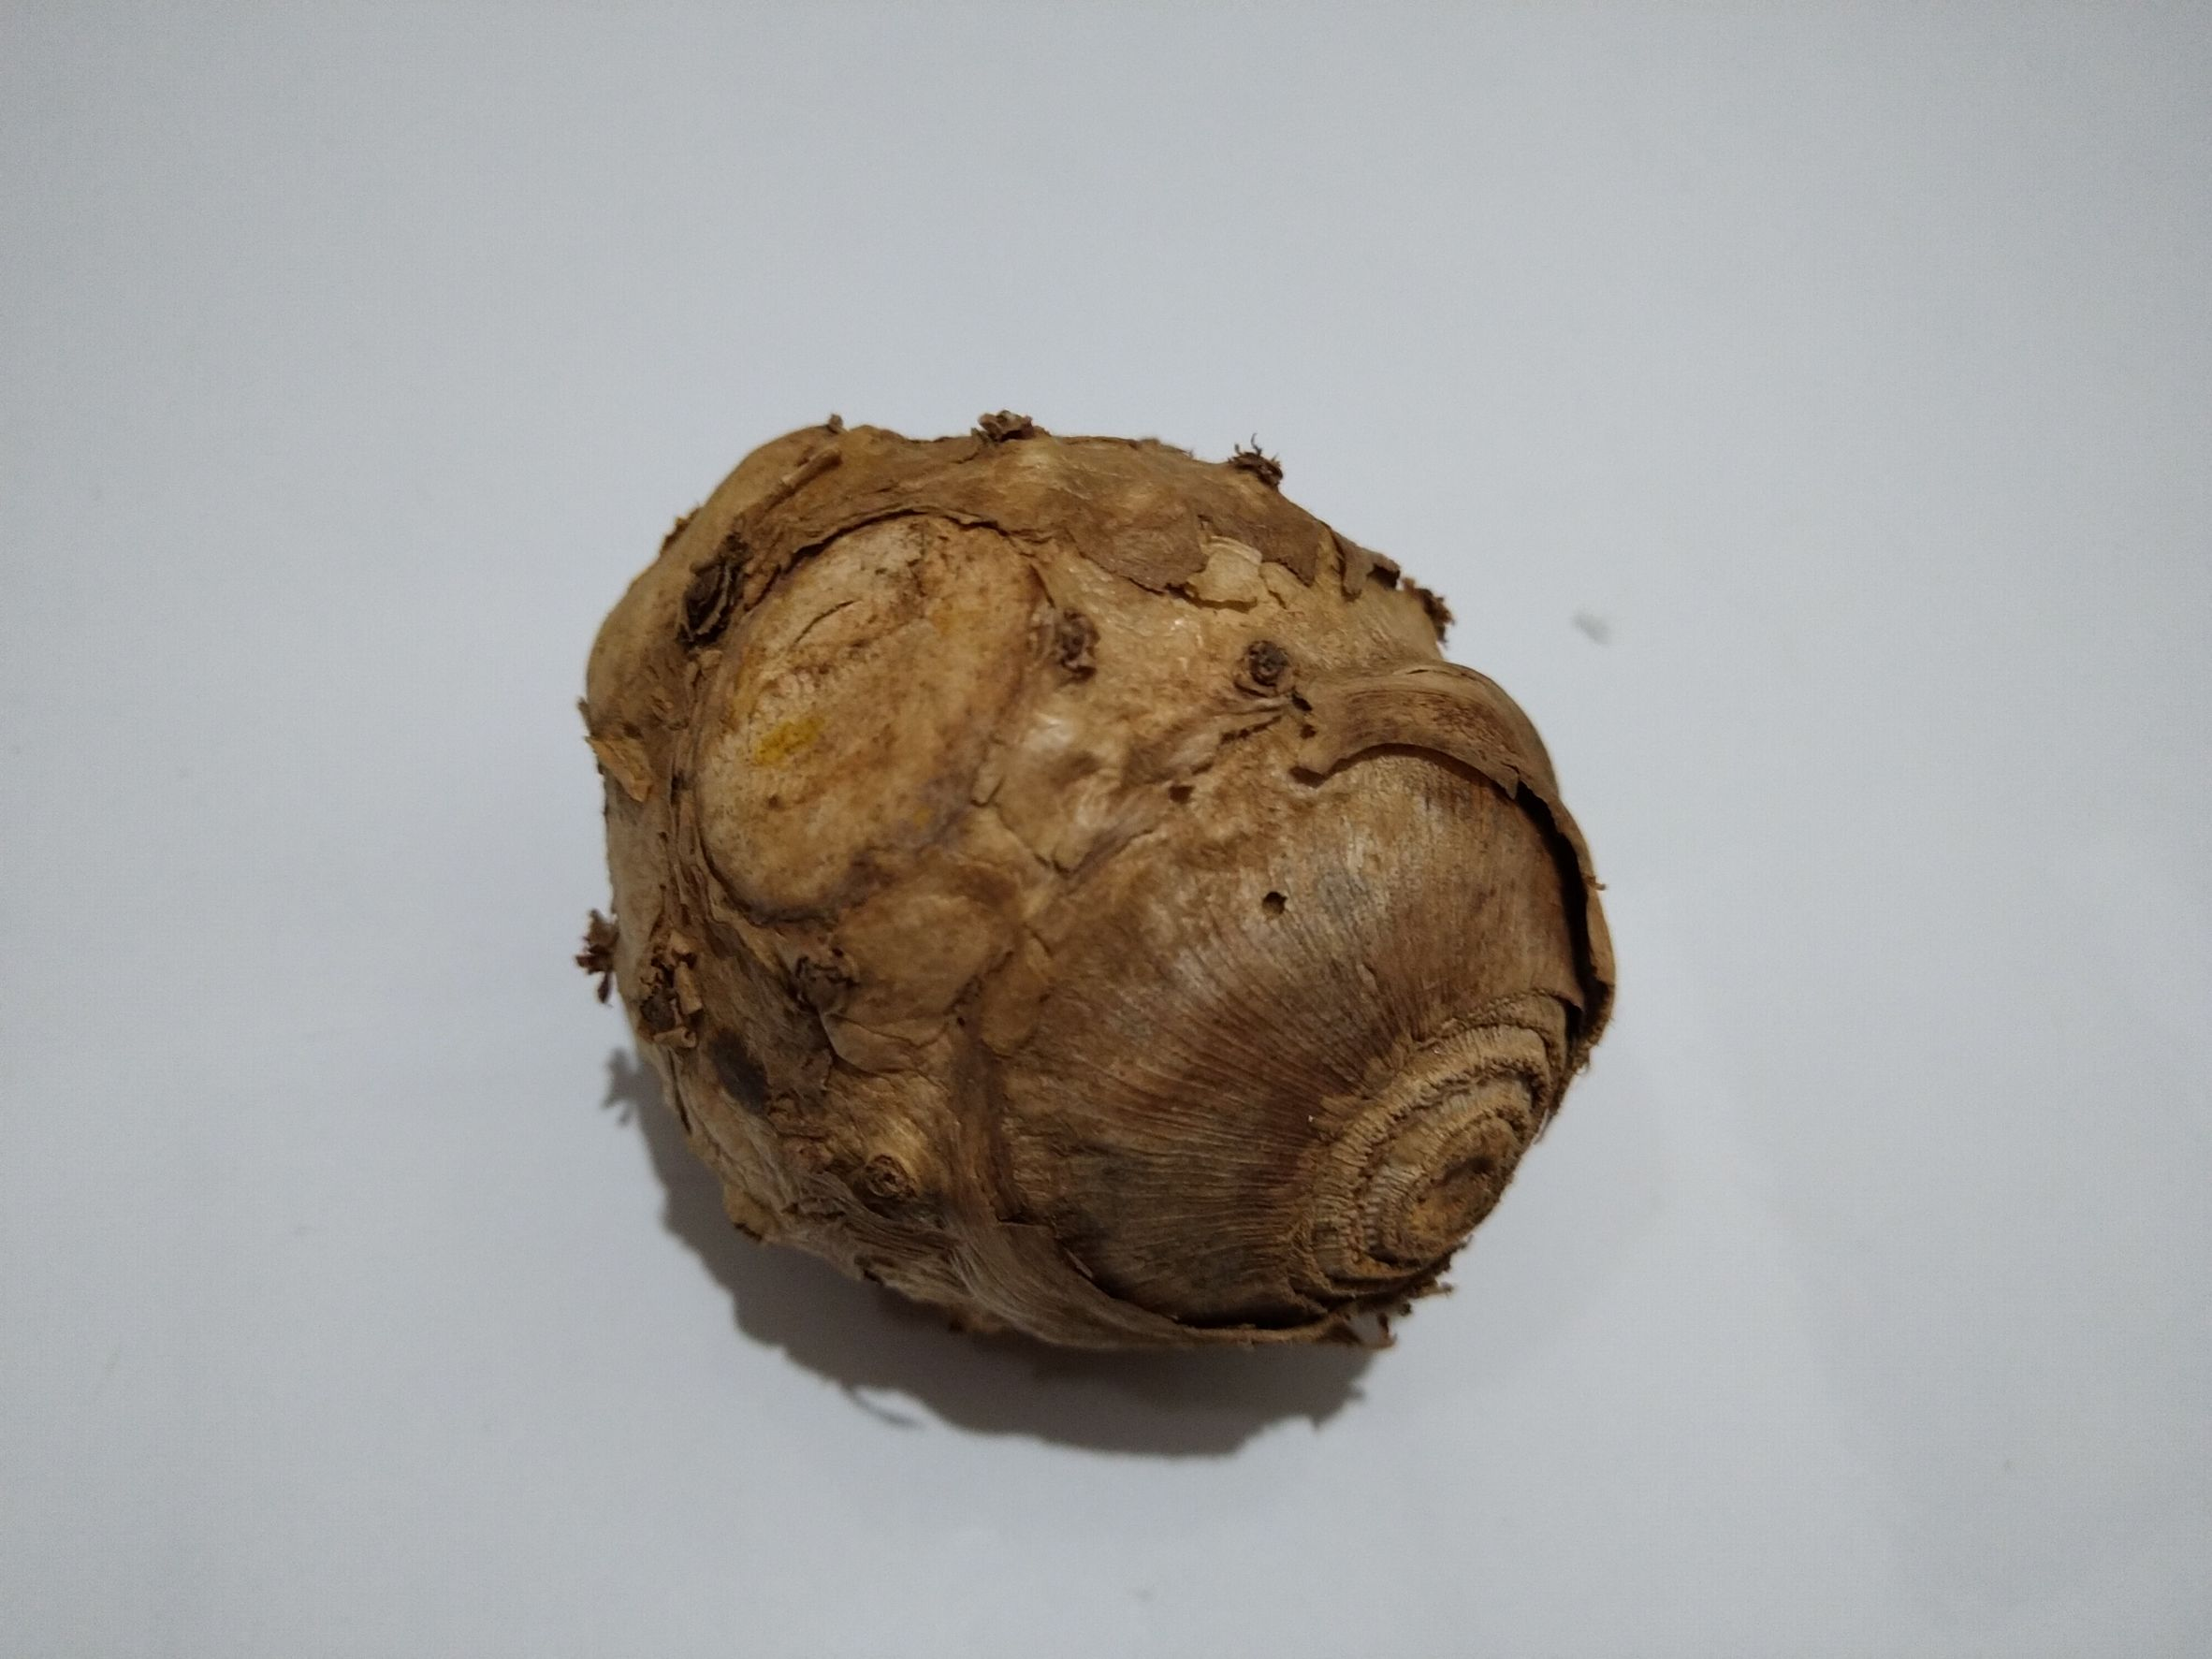Temulawak: (604, 427, 1615, 1410)
